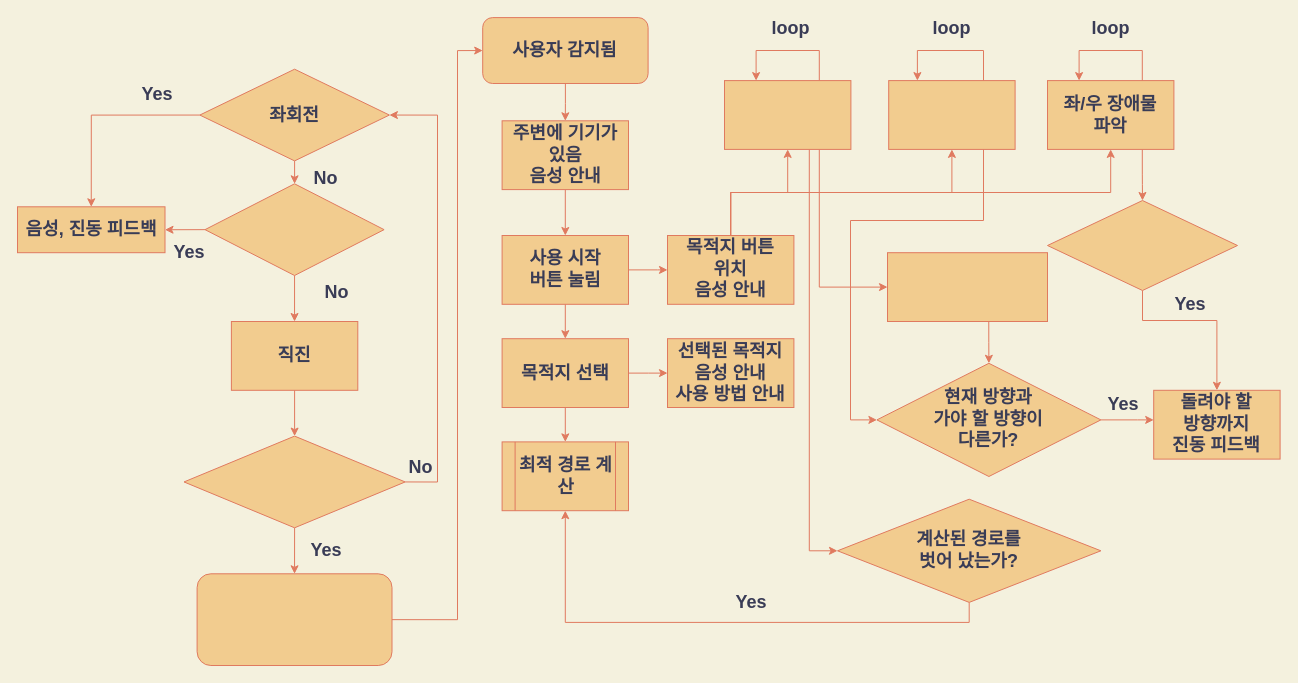
Image size: 1298x683. Some labels were removed from this diagram. The shapes that lost their labels are listed below. From the top down, each one's centre as x and y in pixels, then its label:
(x=787, y=114): 현재 위치 파악
(x=951, y=114): 현재 방향 파악
(x=294, y=229): 우회전
(x=1142, y=245): 장애물이 감지 되었는가?
(x=967, y=287): 현재 위치가 코너인가?
(x=294, y=481): 목적지에 도착했는가?
(x=294, y=619): 목적지에 도착했습니다.
